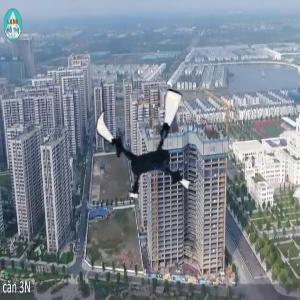drone: (93, 86, 208, 201)
